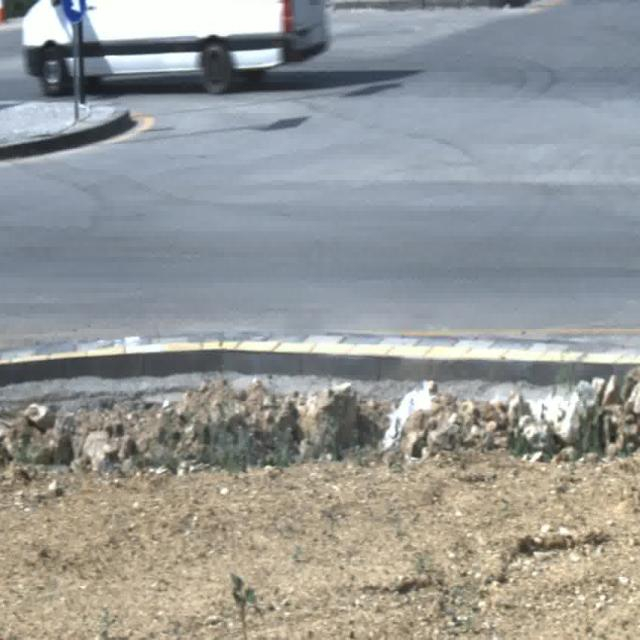Car: (22, 0, 328, 98)
